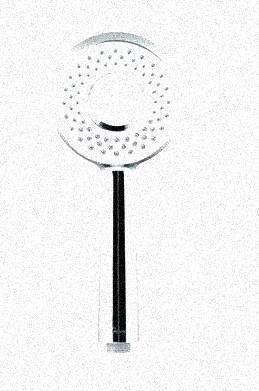Ducha: (48, 32, 194, 356)
